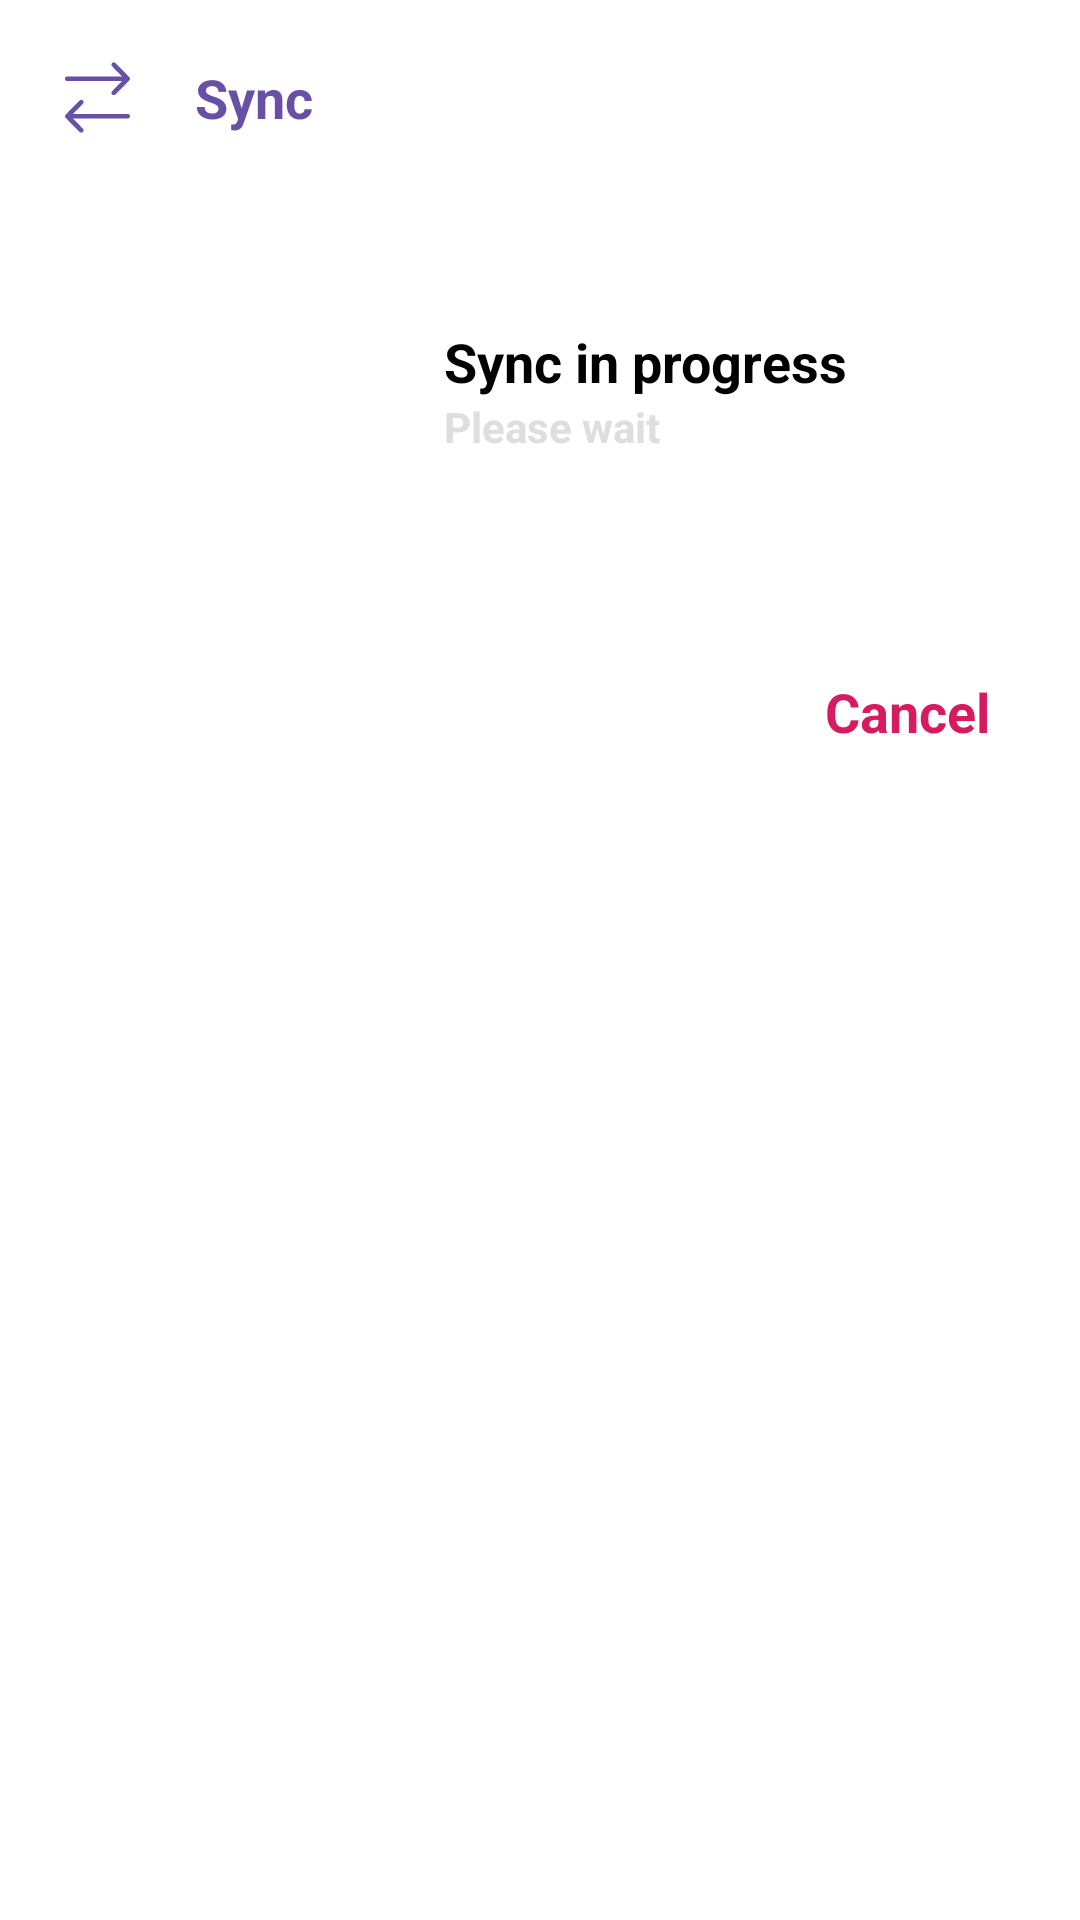

Icons on this 1080 x 1920 Android screen, each with its box as (x1, y1, x2, y2):
arrow right left: (65, 62, 130, 133)
